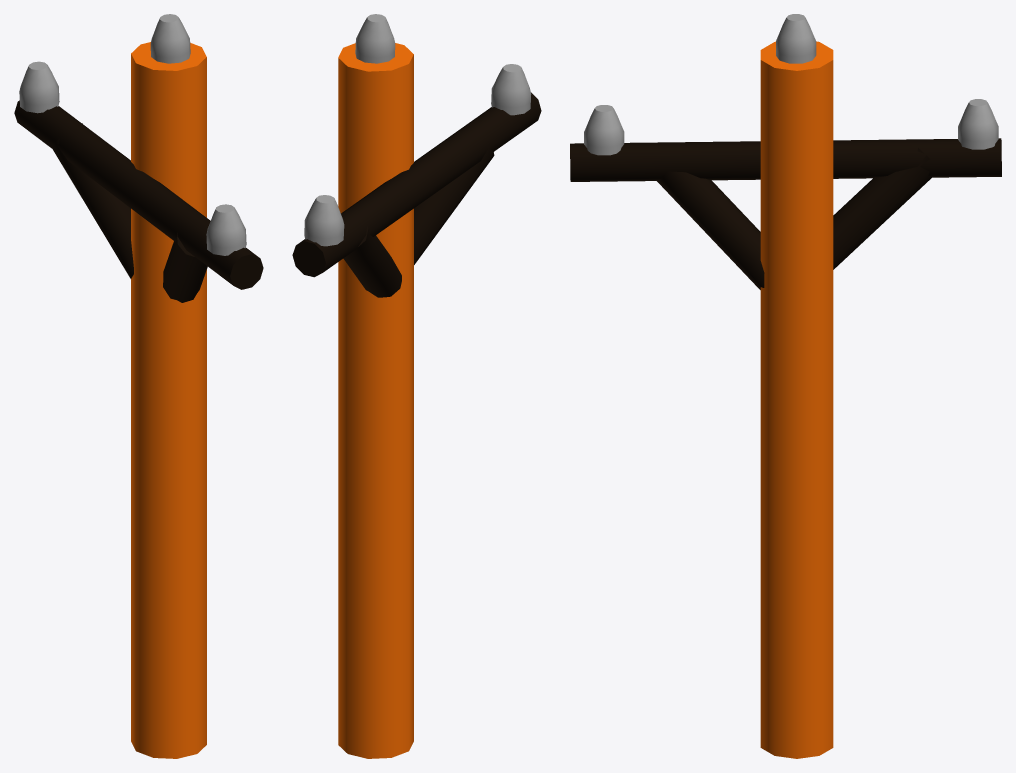
File: Poste de luz.fbx
3 renders of one model, left to right at view 1: azimuth 30°, elevation 25°; view 2: azimuth 150°, elevation 25°; view 3: azimuth 270°, elevation 25°, orthographic.
Parts seen in each view (by area): view 1: Cylinder001; view 2: Cylinder001; view 3: Cylinder001.
Part boxes in pixels (left/top/right/bottom): Cylinder001: left=14, top=14, right=263, bottom=758; Cylinder001: left=292, top=14, right=541, bottom=758; Cylinder001: left=570, top=14, right=1001, bottom=758.
Bounding box in the file's own units: 24.13 × 188 × 102.
